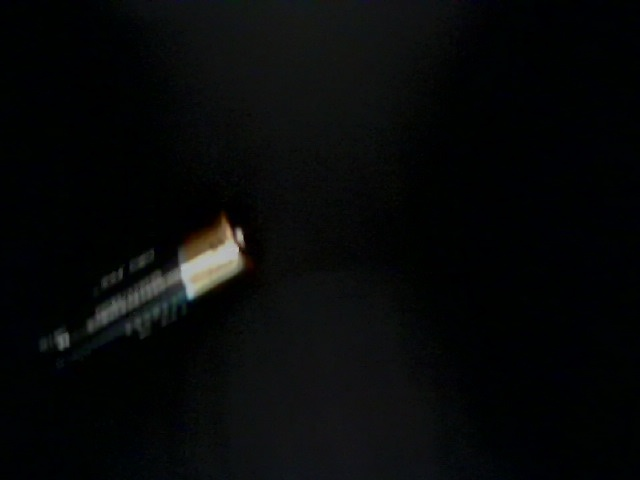QTLJ: (520, 325, 640, 479)
